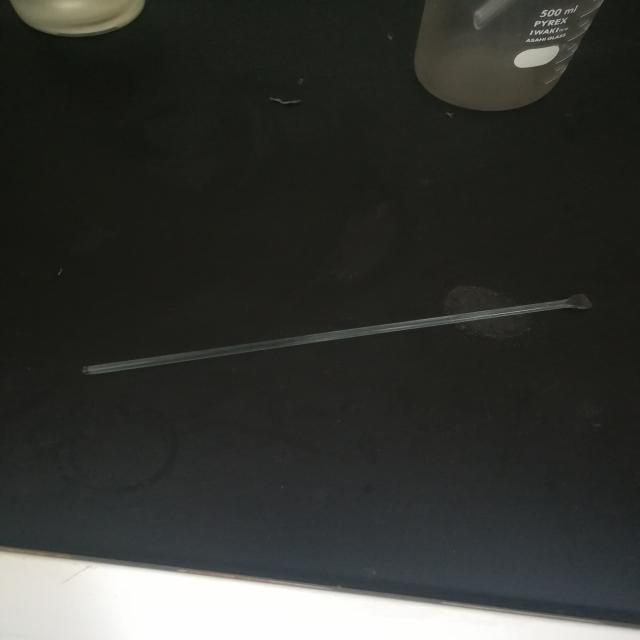Beaker: (392, 0, 636, 131)
Glass_Rod: (57, 265, 618, 417)
